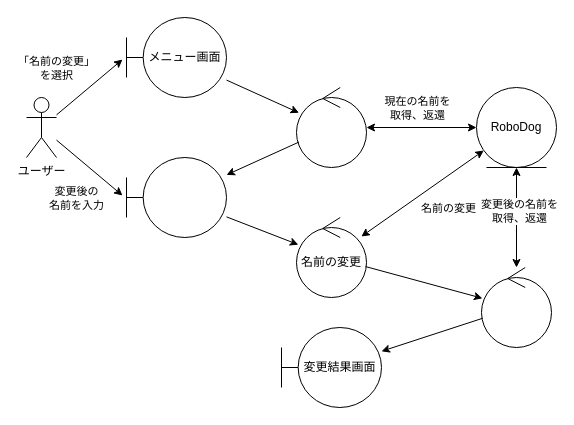
This 574x425 diagram has some shape labels left out. Each missing label, with the box of its shape:
名前の変更 画面表示: (296, 86, 366, 168)
名前変更 画面: (126, 156, 226, 238)
変更 結果 画面 表示: (480, 266, 552, 348)
